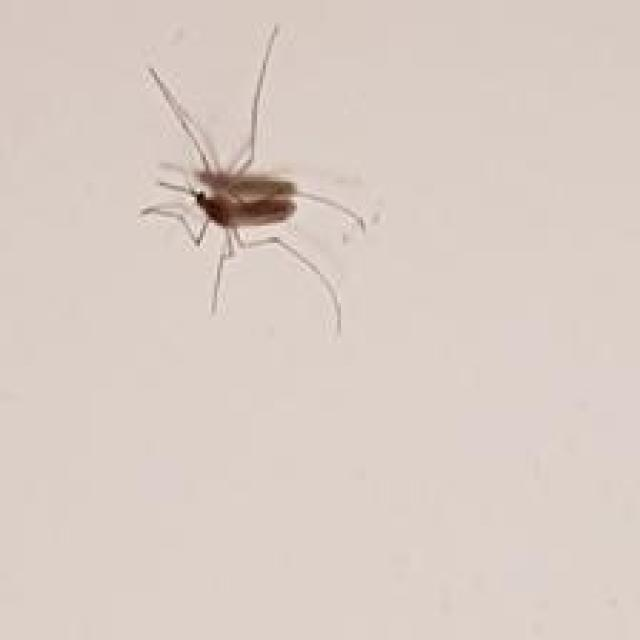Culex: (137, 21, 372, 336)
